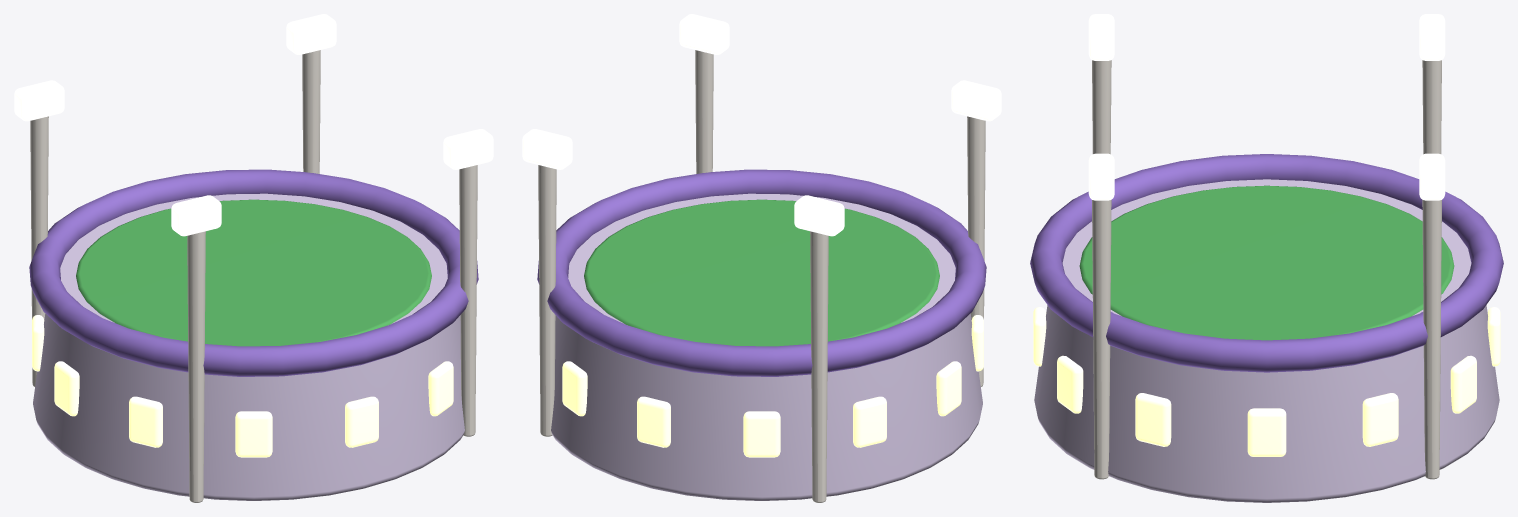
The picture shows the model from 3 angles, left to right: view 1: azimuth 30°, elevation 25°; view 2: azimuth 150°, elevation 25°; view 3: azimuth 270°, elevation 25°; orthographic projection. The views are drawn at different scales.
Visible parts, largest first — view 1: Cone; view 2: Cone; view 3: Cone.
Boxes of the visible parts, x1=… form: Cone: x1=14, y1=14, x2=493, y2=502; Cone: x1=522, y1=14, x2=1001, y2=502; Cone: x1=1030, y1=14, x2=1503, y2=502.
Bounding box in the file's own units: 0.73 × 0.535 × 0.73.
